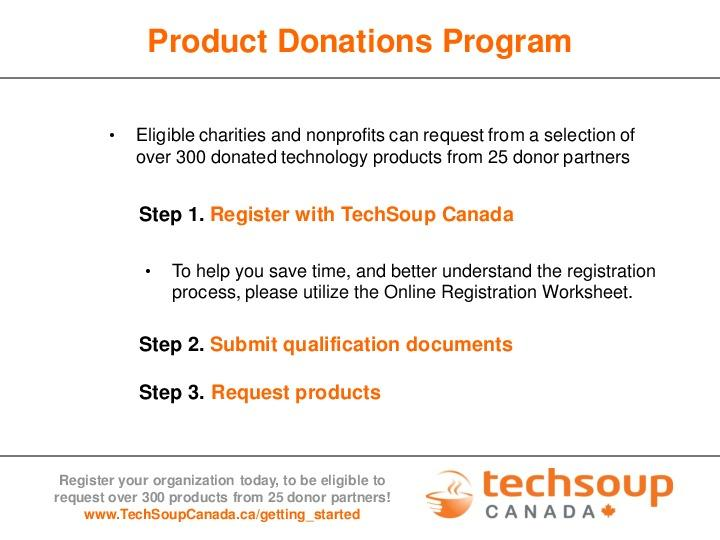paragraph: (105, 102, 680, 427)
subtitle: (39, 461, 405, 536)
title: (135, 17, 586, 72)
